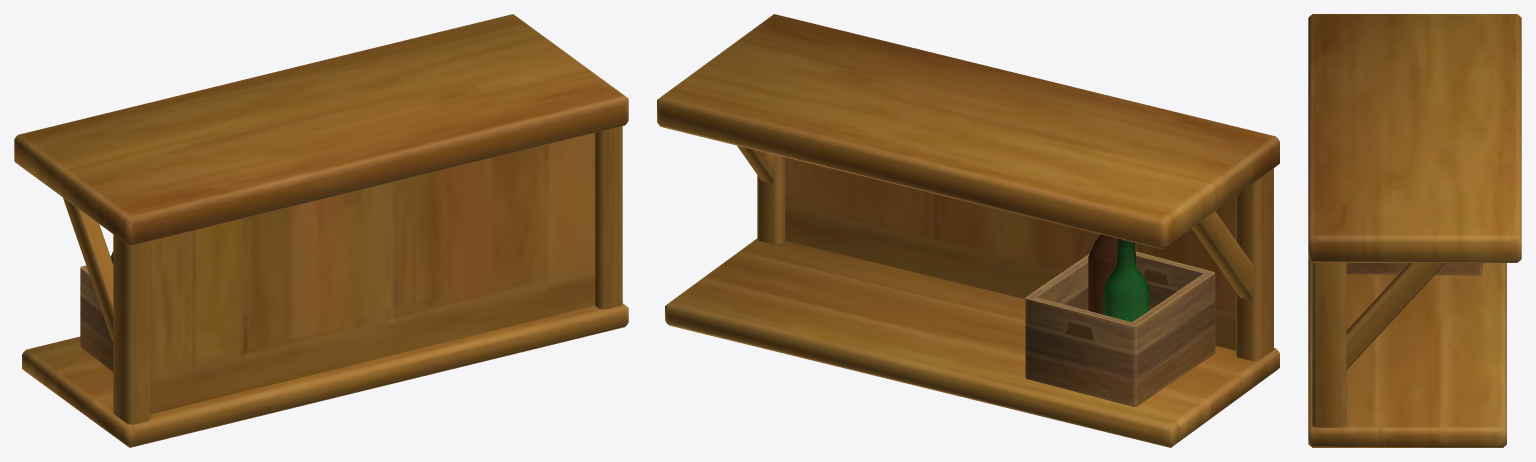
The picture shows the model from 3 angles, left to right: view 1: azimuth 30°, elevation 25°; view 2: azimuth 150°, elevation 25°; view 3: azimuth 270°, elevation 25°; orthographic projection. The views are drawn at different scales.
Bounding box in the file's own units: 20 × 8.79 × 8.
4 materials, 4 textured.
